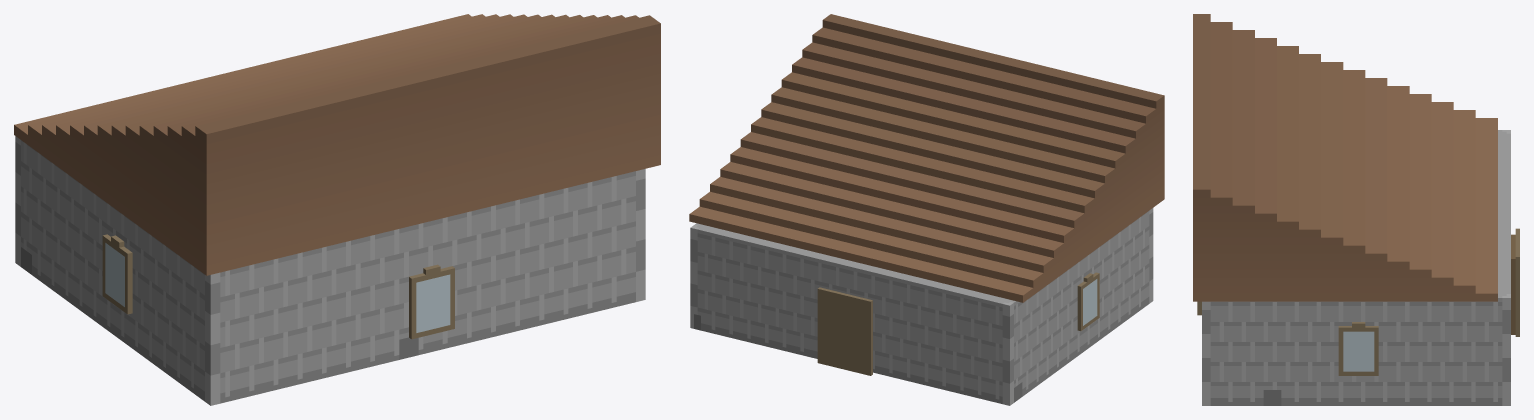
Rendered from cantera_01.glb.
3 views of the same model, side by side, from view 1: azimuth 30°, elevation 25°; view 2: azimuth 150°, elevation 25°; view 3: azimuth 270°, elevation 25° (orthographic). The views are drawn at different scales.
Parts seen in each view (by area): view 1: cantera_01; view 2: cantera_01; view 3: cantera_01.
Boxes of the visible parts, box(x1,y1,x2,y2) form: cantera_01: box(14, 14, 660, 405); cantera_01: box(689, 14, 1164, 405); cantera_01: box(1193, 14, 1519, 405).
Bounding box in the file's own units: 9.4 × 5.5 × 7.4.
